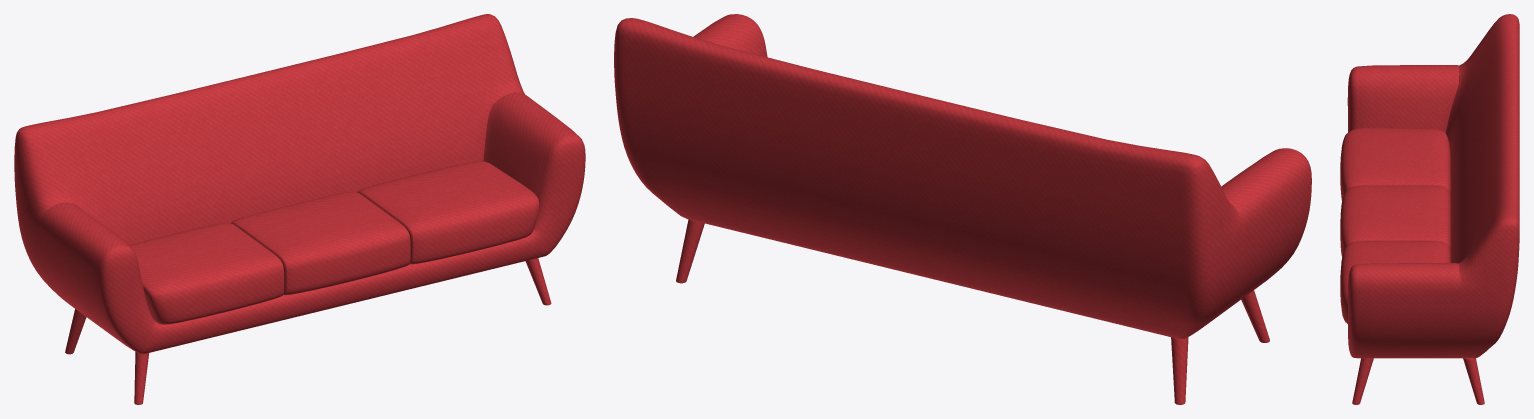
Rendered from red.glb.
3 views of the same model, side by side, from view 1: azimuth 30°, elevation 25°; view 2: azimuth 150°, elevation 25°; view 3: azimuth 270°, elevation 25° (orthographic). The views are drawn at different scales.
Visible parts, largest first — view 1: sofa_mesh_n3d, pillow_003_mesh_n3d, pillow_001_mesh_n3d, pillow_002_mesh_n3d, base_003_mesh_n3d, base_001_mesh_n3d; view 2: sofa_mesh_n3d, base_004_mesh_n3d, base_002_mesh_n3d, base_003_mesh_n3d; view 3: sofa_mesh_n3d, pillow_002_mesh_n3d, pillow_001_mesh_n3d, pillow_003_mesh_n3d, base_002_mesh_n3d, base_001_mesh_n3d.
Boxes of the visible parts, x1,y1,x2,y2 form: sofa_mesh_n3d: (14,14,585,354); pillow_003_mesh_n3d: (357,161,539,264); pillow_001_mesh_n3d: (231,192,410,295); pillow_002_mesh_n3d: (129,222,284,324); base_003_mesh_n3d: (134,351,149,404); base_001_mesh_n3d: (525,258,551,305); sofa_mesh_n3d: (614,14,1311,339); base_004_mesh_n3d: (1171,337,1188,404); base_002_mesh_n3d: (676,219,704,283); base_003_mesh_n3d: (1241,290,1269,342); sofa_mesh_n3d: (1347,14,1519,358); pillow_002_mesh_n3d: (1340,128,1450,200); pillow_001_mesh_n3d: (1340,185,1450,257); pillow_003_mesh_n3d: (1340,241,1450,323); base_002_mesh_n3d: (1463,358,1484,404); base_001_mesh_n3d: (1352,358,1373,404).
Bounding box in the file's own units: 2.39 × 1.03 × 0.8453.
Materials: 1 (1 with a texture image).
